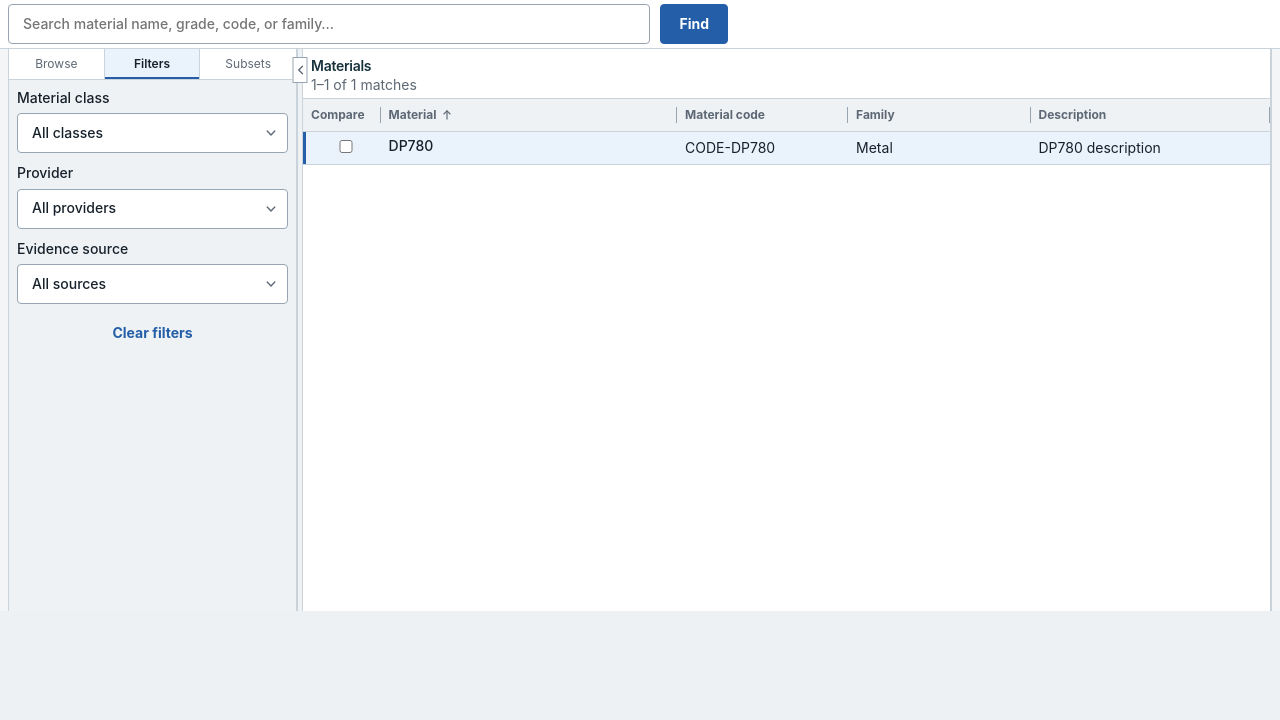
MaterialSearchPage navigator and results › preserves the last authorized rows and exact selection while a failed query is retried
The image size is (1280, 720).
Step 1. Type "DP780 steel" into the field named "Search materials" → {"x": 329, "y": 24}, box [8, 4, 650, 44]
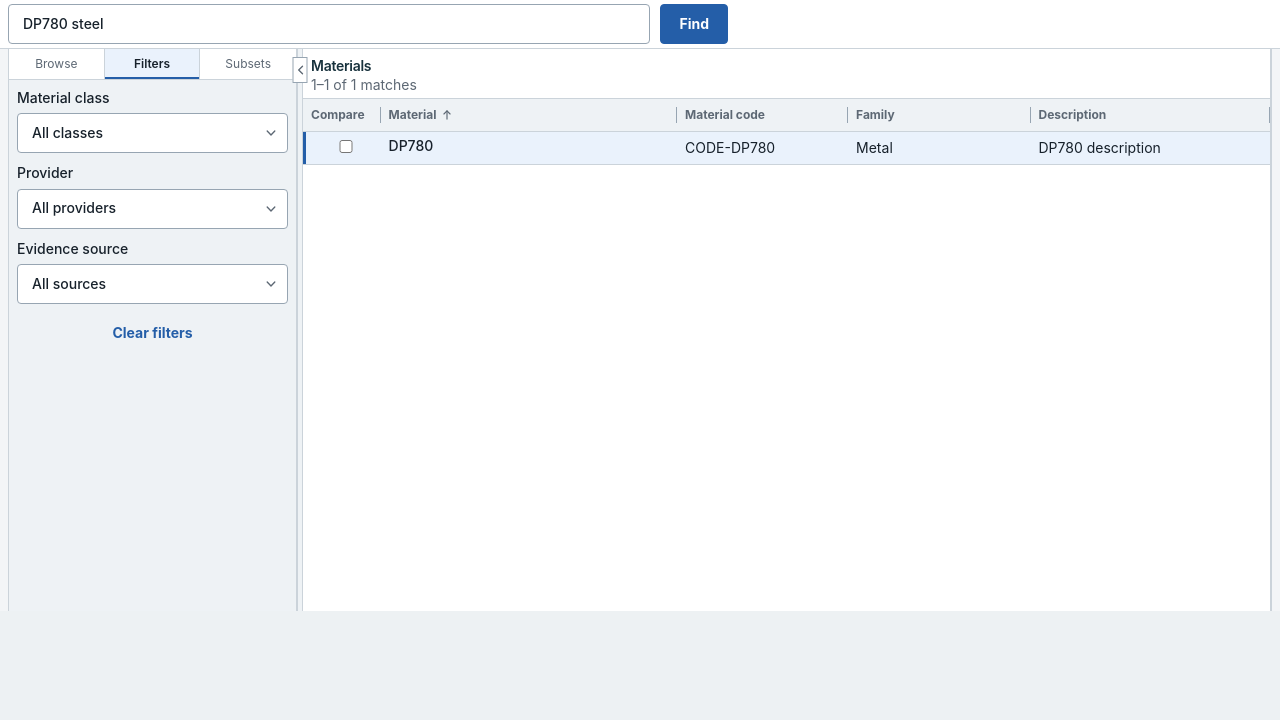
Step 2. Click the button "Find" → {"x": 694, "y": 24}, box [660, 4, 728, 44]
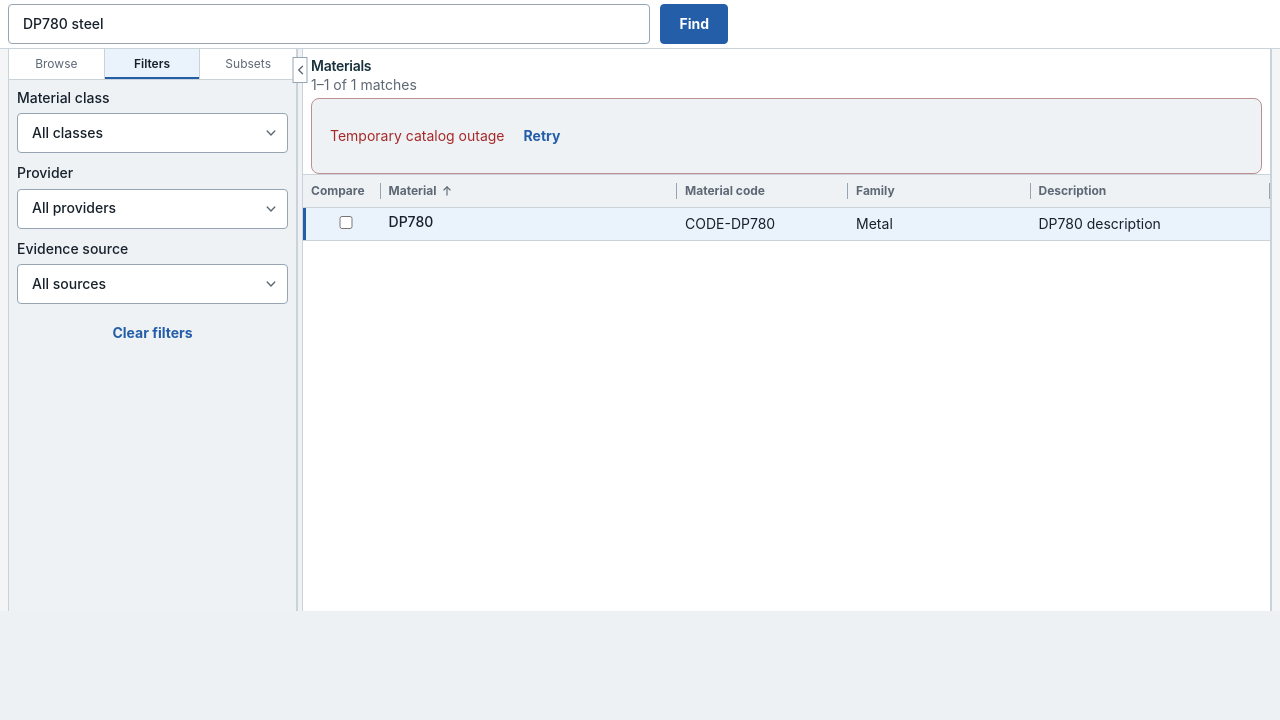
Check: the message shows "Temporary catalog outage", box [330, 127, 504, 144]
Step 3. Click the button "Retry" → {"x": 542, "y": 136}, box [504, 117, 579, 155]
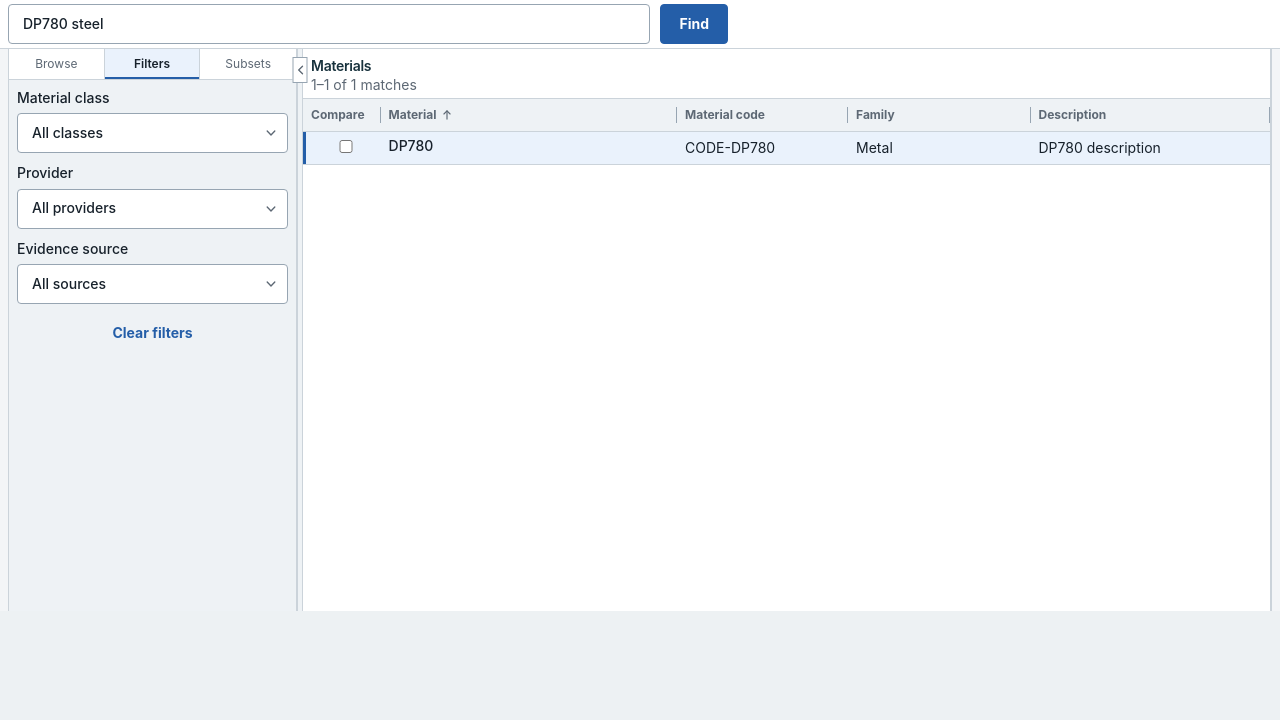
Check: the message "Temporary catalog outage Retry" is gone
